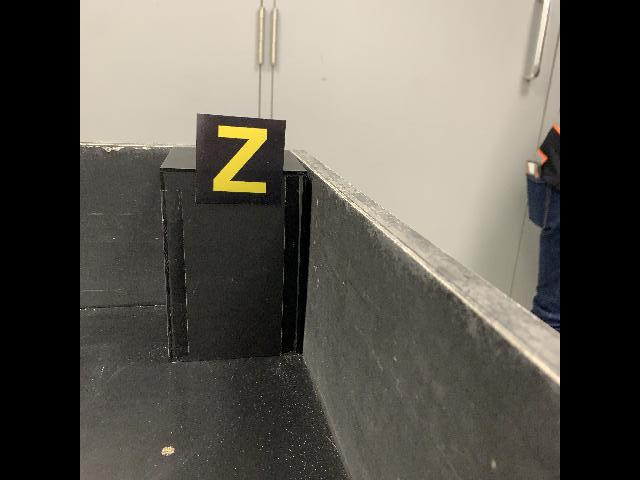z: (192, 111, 287, 207)
